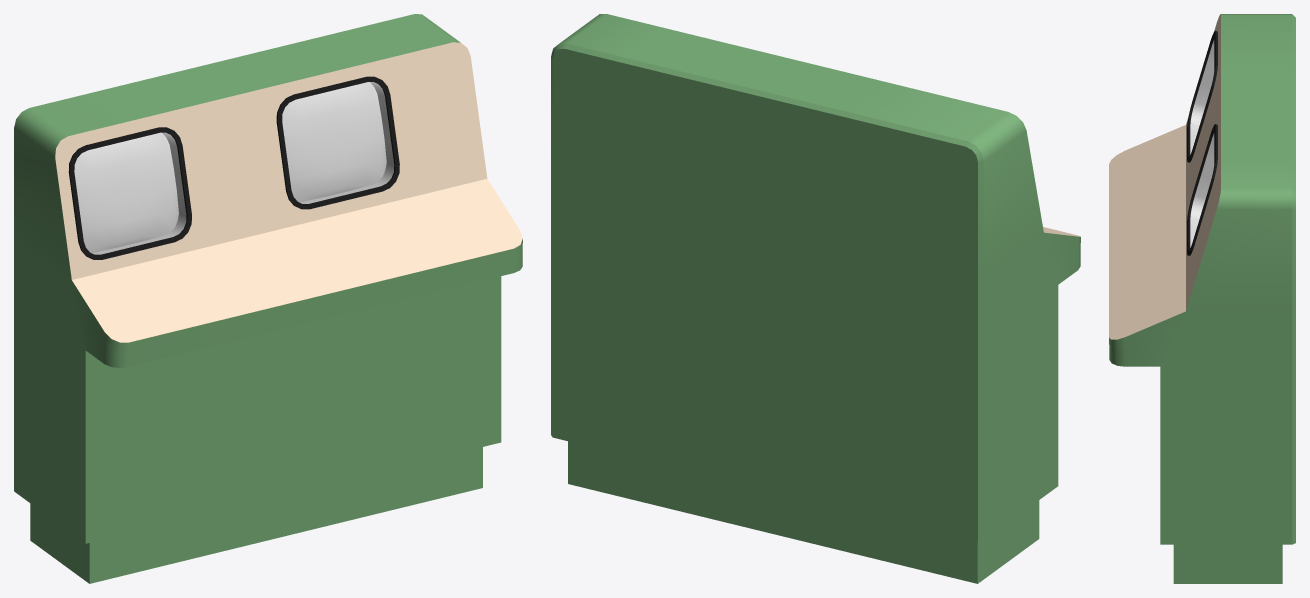
The model's file is ControlTable_WithScreens.fbx.
The picture shows the model from 3 angles, left to right: view 1: azimuth 30°, elevation 25°; view 2: azimuth 150°, elevation 25°; view 3: azimuth 270°, elevation 25°; orthographic projection. The views are drawn at different scales.
Parts seen in each view (by area): view 1: Base_Upper, Base_Lower, Screen_Right, Screen_Left; view 2: Base_Upper, Base_Lower; view 3: Base_Upper, Base_Lower, Screen_Right, Screen_Left.
Part boxes in pixels (left/top/right/bottom): Base_Upper: left=14, top=14, right=522, bottom=543; Base_Lower: left=30, top=447, right=482, bottom=583; Screen_Right: left=276, top=76, right=399, bottom=209; Screen_Left: left=68, top=127, right=191, bottom=259; Base_Upper: left=551, top=14, right=1080, bottom=541; Base_Lower: left=568, top=441, right=1039, bottom=583; Base_Upper: left=1109, top=14, right=1295, bottom=544; Base_Lower: left=1173, top=544, right=1282, bottom=583; Screen_Right: left=1187, top=124, right=1217, bottom=255; Screen_Left: left=1187, top=30, right=1217, bottom=162.
Bounding box in the file's own units: 1.1 × 1.08 × 0.4644.
